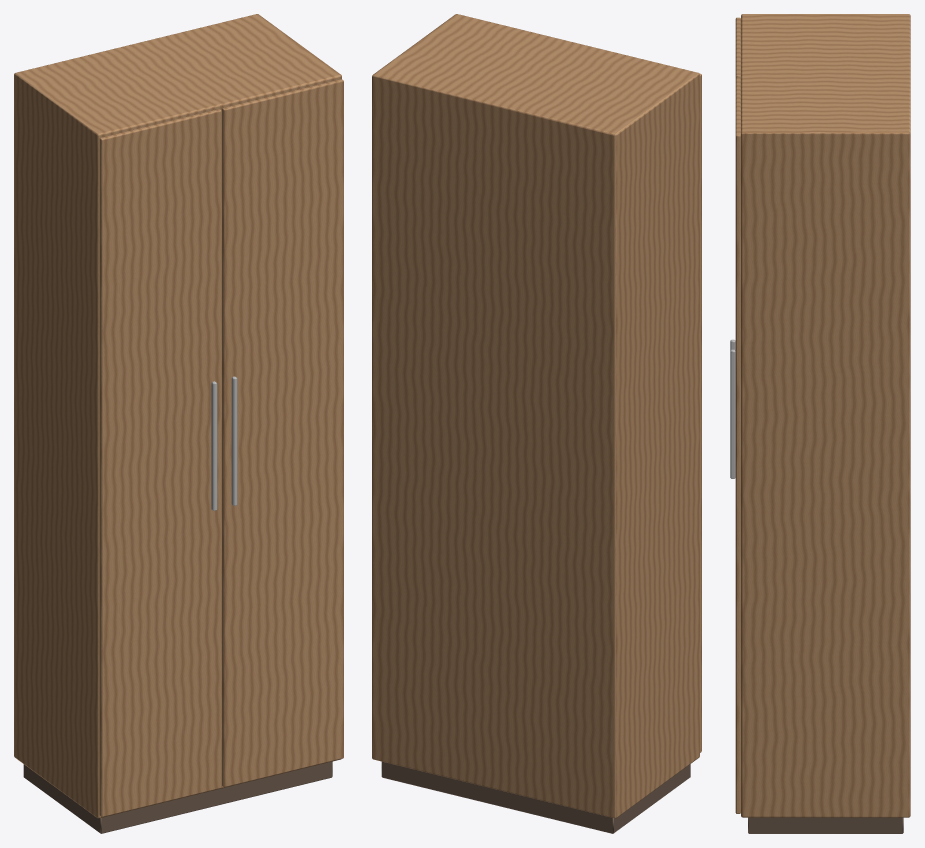
Rendered from wardrobe-80.glb.
The picture shows the model from 3 angles, left to right: view 1: azimuth 30°, elevation 25°; view 2: azimuth 150°, elevation 25°; view 3: azimuth 270°, elevation 25°; orthographic projection.
Parts seen in each view (by area): view 1: wardrobe-80; view 2: wardrobe-80; view 3: wardrobe-80.
Part boxes in pixels (left/top/right/bottom): wardrobe-80: left=14, top=14, right=343, bottom=833; wardrobe-80: left=372, top=14, right=701, bottom=833; wardrobe-80: left=730, top=14, right=910, bottom=833.
Bounding box in the file's own units: 0.8001 × 2.2 × 0.51.
3 materials, 1 textured.
